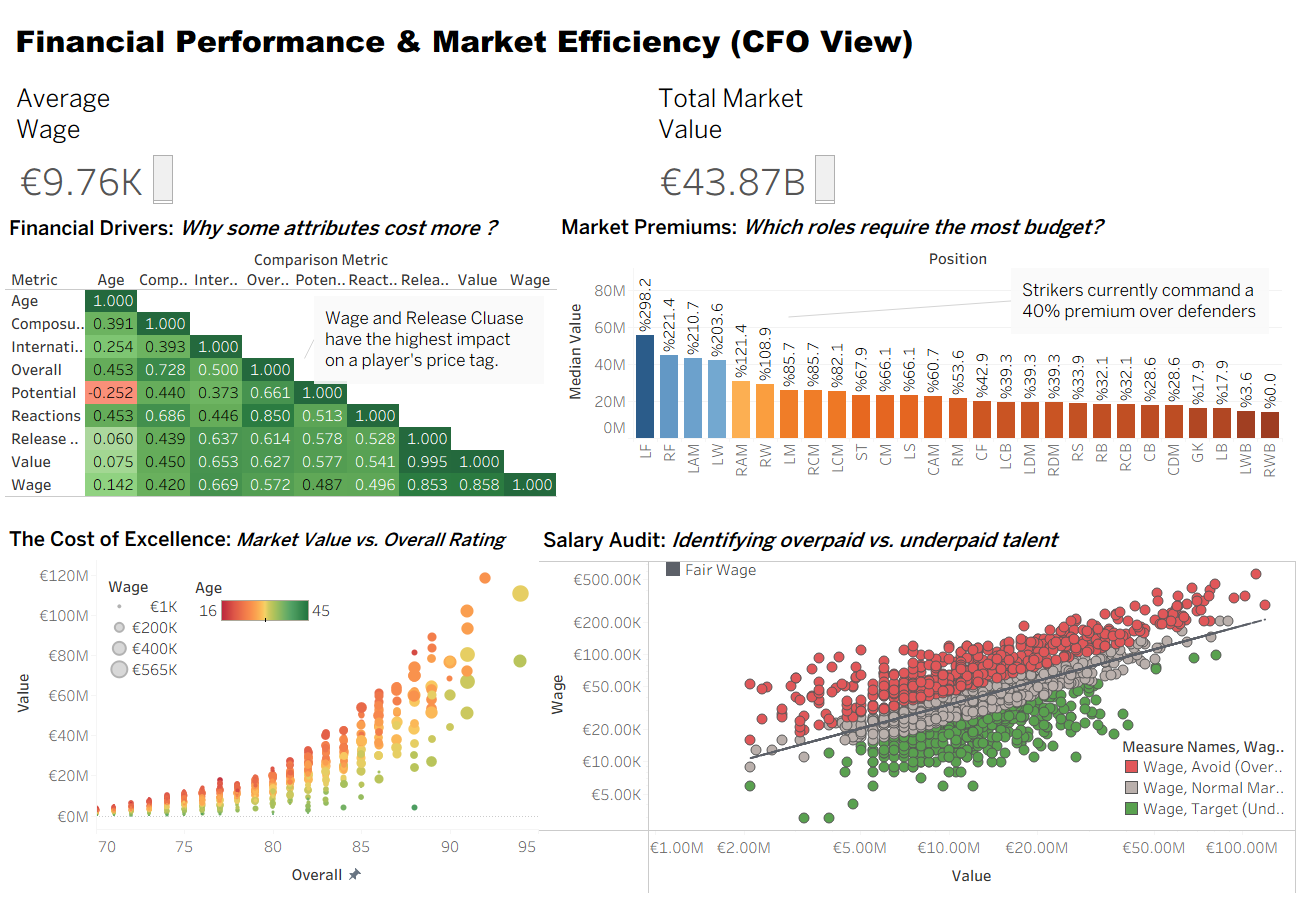

Layout of this report page (visuals, bound fields, positions):
{"tool":"tableau","page":{"name":"Dashboard 1","canvas":[1300,900],"ordinal":0},"visuals":[{"type":"title","box":[8,8,1284,64]},{"type":"worksheet","title":"Sheet 17","mark":"Automatic","box":[8,72,642,135]},{"type":"worksheet","title":"Sheet 16","mark":"Automatic","box":[650,72,642,135]},{"type":"worksheet","title":"Sheet 4","mark":"Automatic","rows":["Median_Value"],"cols":["Position"],"box":[557,209,725,289]},{"type":"worksheet","title":"Sheet 1","mark":"Square","rows":["Metric"],"cols":["Comparison_Metric"],"box":[5,210,552,287]},{"type":"worksheet","title":"Sheet 2","mark":"Circle","rows":["Value"],"cols":["Overall"],"box":[5,521,533,371]},{"type":"worksheet","title":"Sheet 3","mark":"Automatic","rows":["Wage","Fair_Wage"],"cols":["Value"],"box":[539,522,757,372]},{"type":"legend","title":"Sheet 3","param":"[federated.1ltdteq0o6zbfr1204ynw125pg5x].[:Measure Names]","box":[663,559,146,51]},{"type":"legend","title":"Sheet 2","param":"[federated.16m6yvt0nqecn1123wyzn1wvp28u].[sum:Age:qk]","box":[195,573,140,51]},{"type":"legend","title":"Sheet 2","param":"[federated.16m6yvt0nqecn1123wyzn1wvp28u].[sum:Wage:qk]","box":[107,574,140,106]},{"type":"legend","title":"Sheet 3","param":"[federated.1ltdteq0o6zbfr1204ynw125pg5x].[:Measure Names]\n[federated.1ltdteq0o6z","box":[1121,734,167,87]}]}

Visuals, with their boxes in screenshot pixels (x1, y1, x2, y2), scaled from the page's 1300x900 canvas onto the 1300x900 screenshot:
title: [x1=8, y1=8, x2=1292, y2=72]
"Sheet 17" worksheet: [x1=8, y1=72, x2=650, y2=207]
"Sheet 16" worksheet: [x1=650, y1=72, x2=1292, y2=207]
"Sheet 4" worksheet: [x1=557, y1=209, x2=1282, y2=498]
"Sheet 1" worksheet (Square marks): [x1=5, y1=210, x2=557, y2=497]
"Sheet 2" worksheet (Circle marks): [x1=5, y1=521, x2=538, y2=892]
"Sheet 3" worksheet: [x1=539, y1=522, x2=1296, y2=894]
"Sheet 3" legend: [x1=663, y1=559, x2=809, y2=610]
"Sheet 2" legend: [x1=195, y1=573, x2=335, y2=624]
"Sheet 2" legend: [x1=107, y1=574, x2=247, y2=680]
"Sheet 3" legend: [x1=1121, y1=734, x2=1288, y2=821]
